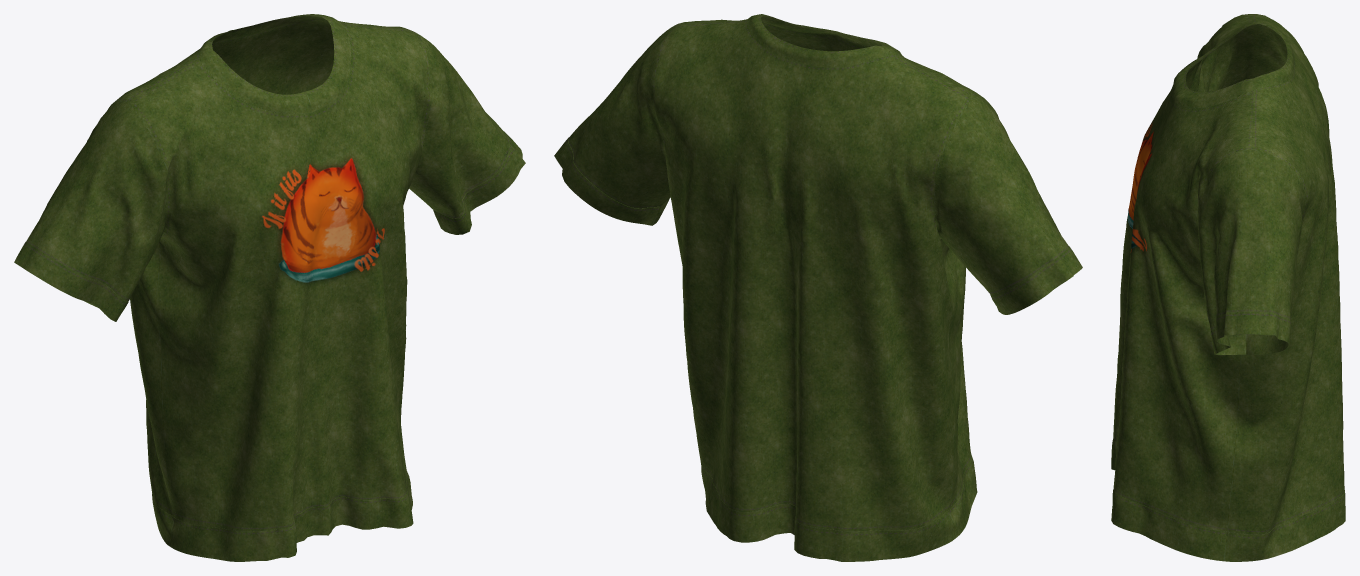
File: graphic-tee.glb
3 renders of one model, left to right at view 1: azimuth 30°, elevation 25°; view 2: azimuth 150°, elevation 25°; view 3: azimuth 270°, elevation 25°, orthographic. The views are drawn at different scales.
Parts seen in each view (by area): view 1: source_mesh_0; view 2: source_mesh_0; view 3: source_mesh_0.
Part boxes in pixels (<box>): source_mesh_0: <box>14,14,525,561</box>; source_mesh_0: <box>554,14,1082,561</box>; source_mesh_0: <box>1111,14,1345,561</box>.
Bounding box in the file's own units: 2.18 × 2 × 0.9219.
Materials: 1 (1 with a texture image).
